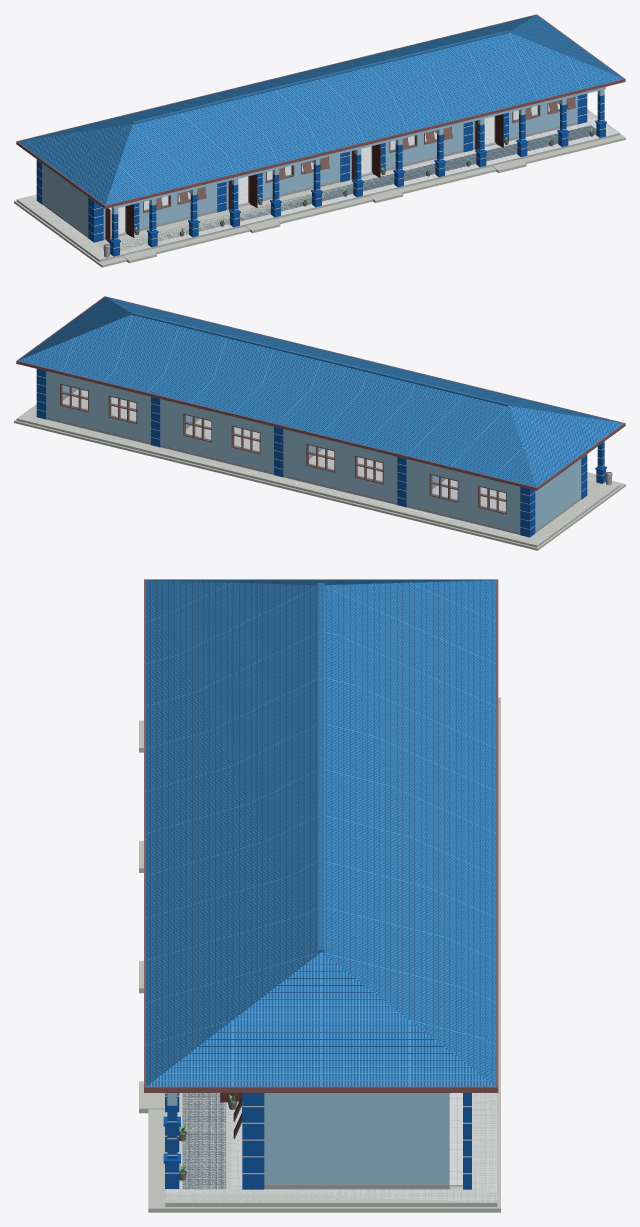
File: gedung_kelas_4_ruangan.glb
3 views of the same model, one above another, from view 1: azimuth 30°, elevation 25°; view 2: azimuth 150°, elevation 25°; view 3: azimuth 270°, elevation 25° (orthographic). The views are drawn at different scales.
Visible parts, largest first — view 1: Atap_Genteng_Metal_Biru, Apron_Dan_Tangga_Beton, Dinding_Biru_Langit, Pilaster_Dan_Tiang_Biru_Kobalt, Lantai_Koridor_Putih_BiruAbu, Lisplang_Marun_Atap, Kusen_Coklat_Gelap, Lantai_4_Ruangan_Kosong, Daun_Pintu_Marun_6Panel, Plint_Dinding_Abu, Selasar_Keramik_Putih_Keliling, Kaca_Jendela_Transparan; view 2: Atap_Genteng_Metal_Biru, Dinding_Biru_Langit, Apron_Dan_Tangga_Beton, Pilaster_Dan_Tiang_Biru_Kobalt, Kusen_Coklat_Gelap, Lisplang_Marun_Atap, Kaca_Jendela_Transparan, Lantai_4_Ruangan_Kosong, Plint_Dinding_Abu, Selasar_Keramik_Putih_Keliling; view 3: Atap_Genteng_Metal_Biru, Apron_Dan_Tangga_Beton, Dinding_Biru_Langit, Selasar_Keramik_Putih_Keliling, Lantai_Koridor_Putih_BiruAbu, Lisplang_Marun_Atap, Pilaster_Dan_Tiang_Biru_Kobalt, Lantai_4_Ruangan_Kosong, Plint_Dinding_Abu.
Part boxes in pixels (box(x1,y1,x2,y2)): Atap_Genteng_Metal_Biru: box(18, 15, 623, 205); Apron_Dan_Tangga_Beton: box(14, 109, 625, 267); Dinding_Biru_Langit: box(42, 87, 605, 237); Pilaster_Dan_Tiang_Biru_Kobalt: box(36, 93, 606, 256); Lantai_Koridor_Putih_BiruAbu: box(99, 122, 599, 254); Lisplang_Marun_Atap: box(16, 14, 625, 208); Kusen_Coklat_Gelap: box(105, 96, 576, 239); Lantai_4_Ruangan_Kosong: box(109, 103, 559, 235); Daun_Pintu_Marun_6Panel: box(105, 114, 503, 243); Plint_Dinding_Abu: box(42, 101, 577, 239); Selasar_Keramik_Putih_Keliling: box(17, 110, 618, 259); Kaca_Jendela_Transparan: box(144, 100, 559, 210); Atap_Genteng_Metal_Biru: box(18, 297, 623, 487); Dinding_Biru_Langit: box(46, 371, 581, 532); Apron_Dan_Tangga_Beton: box(14, 404, 625, 550); Pilaster_Dan_Tiang_Biru_Kobalt: box(36, 369, 606, 537); Kusen_Coklat_Gelap: box(60, 383, 506, 514); Lisplang_Marun_Atap: box(16, 296, 625, 490); Kaca_Jendela_Transparan: box(62, 385, 505, 511); Lantai_4_Ruangan_Kosong: box(62, 389, 505, 511); Plint_Dinding_Abu: box(46, 388, 581, 534); Selasar_Keramik_Putih_Keliling: box(16, 407, 619, 545); Atap_Genteng_Metal_Biru: box(146, 580, 496, 1086); Apron_Dan_Tangga_Beton: box(139, 697, 500, 1212); Dinding_Biru_Langit: box(165, 1093, 449, 1183); Selasar_Keramik_Putih_Keliling: box(165, 1093, 497, 1203); Lantai_Koridor_Putih_BiruAbu: box(165, 1093, 242, 1189); Lisplang_Marun_Atap: box(144, 579, 498, 1092); Pilaster_Dan_Tiang_Biru_Kobalt: box(163, 1093, 471, 1189); Lantai_4_Ruangan_Kosong: box(449, 1093, 462, 1186); Plint_Dinding_Abu: box(264, 1184, 449, 1189).
Bounding box in the file's own units: 31.9 × 5.55 × 9.55.
Materials: 21 (10 with a texture image).
